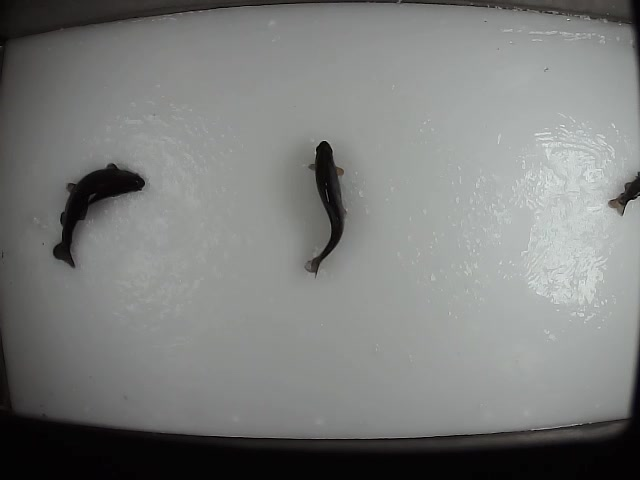fish: (50, 159, 146, 271), (298, 138, 347, 280)
